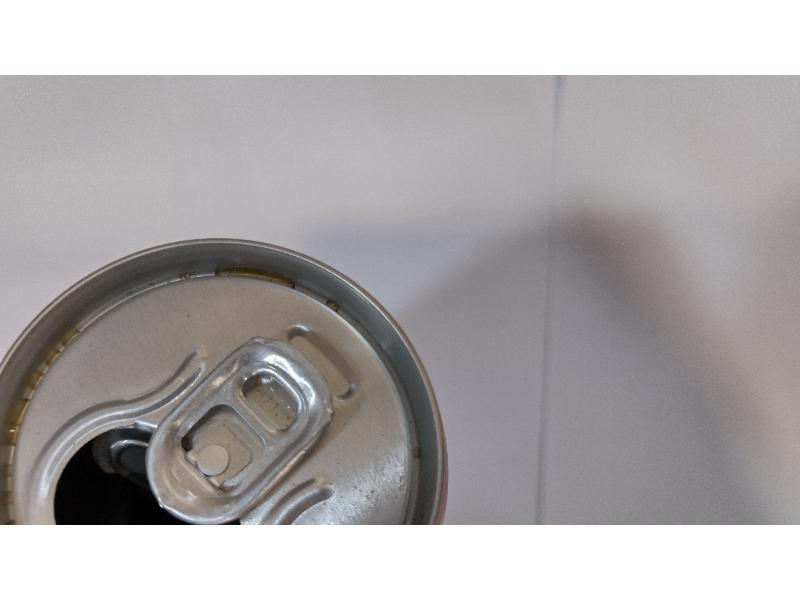can: (2, 234, 460, 522)
